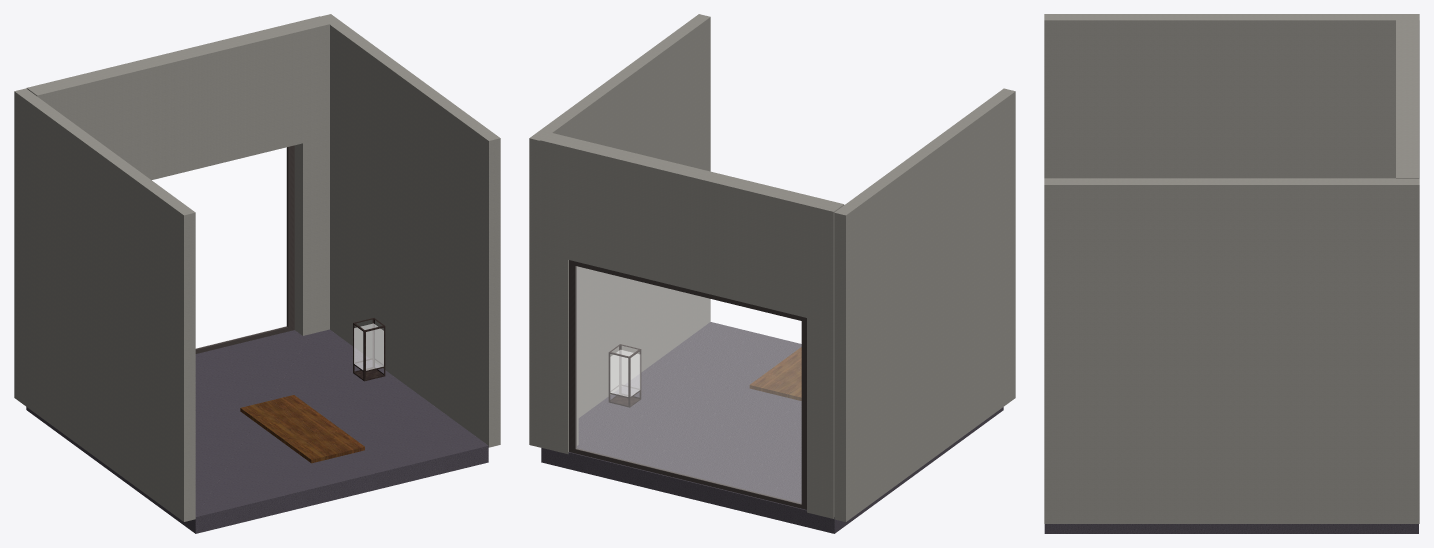
File: room.glb
The picture shows the model from 3 angles, left to right: view 1: azimuth 30°, elevation 25°; view 2: azimuth 150°, elevation 25°; view 3: azimuth 270°, elevation 25°; orthographic projection. The views are drawn at different scales.
Parts seen in each view (by area): view 1: wall-left, wall-right, wall-front, floor, glass, table, window, lamp; view 2: wall-left, wall-front, glass, floor, wall-right, window, table, lamp; view 3: wall-right, wall-left, wall-front, floor.
Part boxes in pixels (x1,y1,x2,y2): wall-left: (14,88,195,521); wall-right: (321,14,500,447); wall-front: (26,16,330,335); floor: (26,329,488,533); glass: (152,147,383,370); table: (240,395,364,463); window: (195,145,294,353); lamp: (353,318,385,381); wall-left: (834,88,1015,521); wall-front: (540,132,844,518); glass: (576,266,801,503); floor: (541,322,1003,533); wall-right: (529,14,710,447); window: (569,260,806,509); table: (749,347,801,400); lamp: (608,344,641,407); wall-right: (1044,178,1419,523); wall-left: (1044,14,1419,178); wall-front: (1396,20,1419,178); floor: (1044,524,1418,533).
Size of the model in its own units: 28.3 by 27.5 by 26.27.
6 materials, 5 textured.
